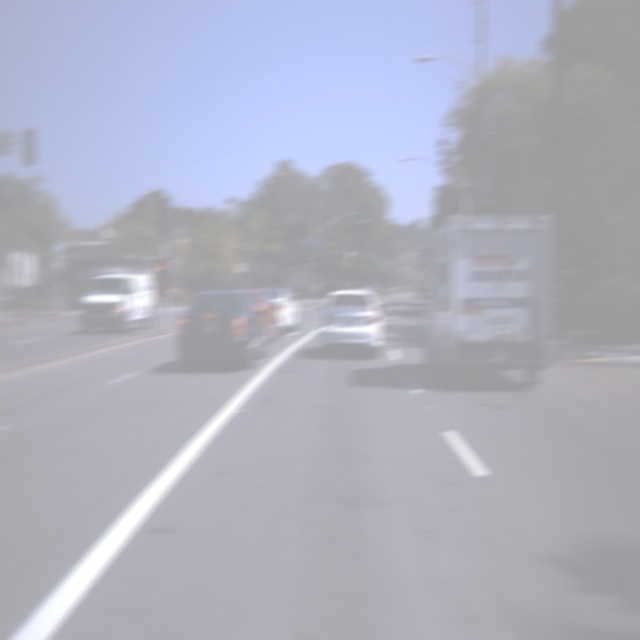go: (362, 210, 368, 223)
go traffic light: (362, 210, 368, 223)
stop left: (155, 261, 171, 293), (311, 254, 320, 269)
stop left traffic light: (155, 261, 171, 293), (311, 254, 320, 269)
